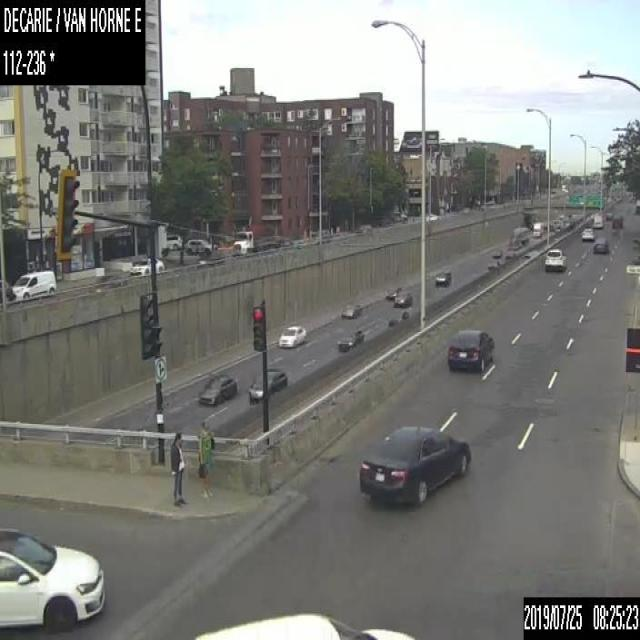pedestrian: (196, 420, 214, 500), (170, 431, 185, 507)
vehicle: (0, 524, 106, 634), (356, 421, 472, 507), (189, 609, 417, 639), (446, 328, 494, 373), (230, 229, 290, 254), (11, 269, 55, 301), (198, 372, 238, 407), (248, 367, 288, 402), (278, 324, 306, 348), (129, 256, 164, 275), (336, 328, 363, 351), (186, 237, 218, 255), (544, 247, 567, 272), (508, 226, 528, 248), (386, 309, 409, 327), (341, 302, 363, 318), (394, 289, 412, 308), (0, 278, 14, 302), (163, 233, 181, 250), (434, 269, 451, 286), (593, 236, 608, 253), (385, 285, 401, 299), (581, 227, 595, 241), (592, 211, 603, 227), (611, 213, 622, 228), (532, 221, 542, 237), (426, 212, 439, 220), (487, 259, 498, 268), (492, 248, 502, 257), (604, 211, 612, 220), (635, 198, 639, 212)
